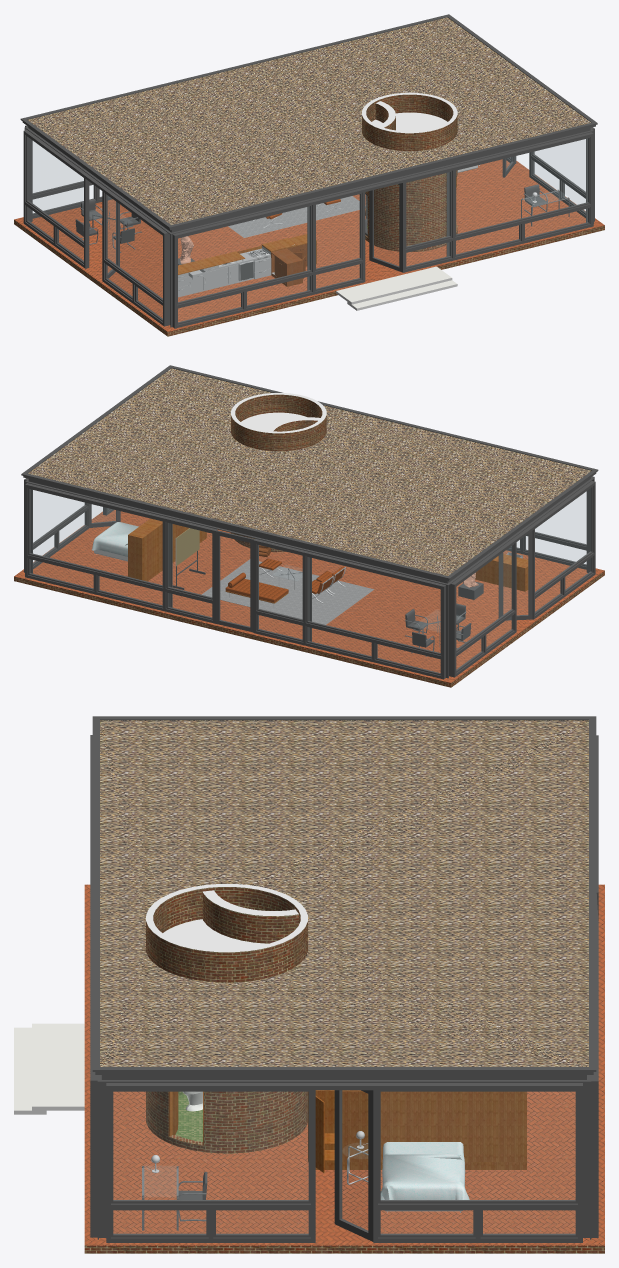
The model's file is glass_house_textured.glb.
3 views of the same model, one above another, from view 1: azimuth 30°, elevation 25°; view 2: azimuth 150°, elevation 25°; view 3: azimuth 270°, elevation 25° (orthographic). The views are drawn at different scales.
Parts seen in each view (by area): view 1: HabitatNow; view 2: HabitatNow; view 3: HabitatNow.
Boxes of the visible parts, x1,y1,x2,y2 form: HabitatNow: (14, 14, 604, 336); HabitatNow: (14, 365, 604, 687); HabitatNow: (14, 716, 604, 1253).
Bounding box in the file's own units: 17.56 × 4.74 × 12.15.
29 materials, 18 textured.
